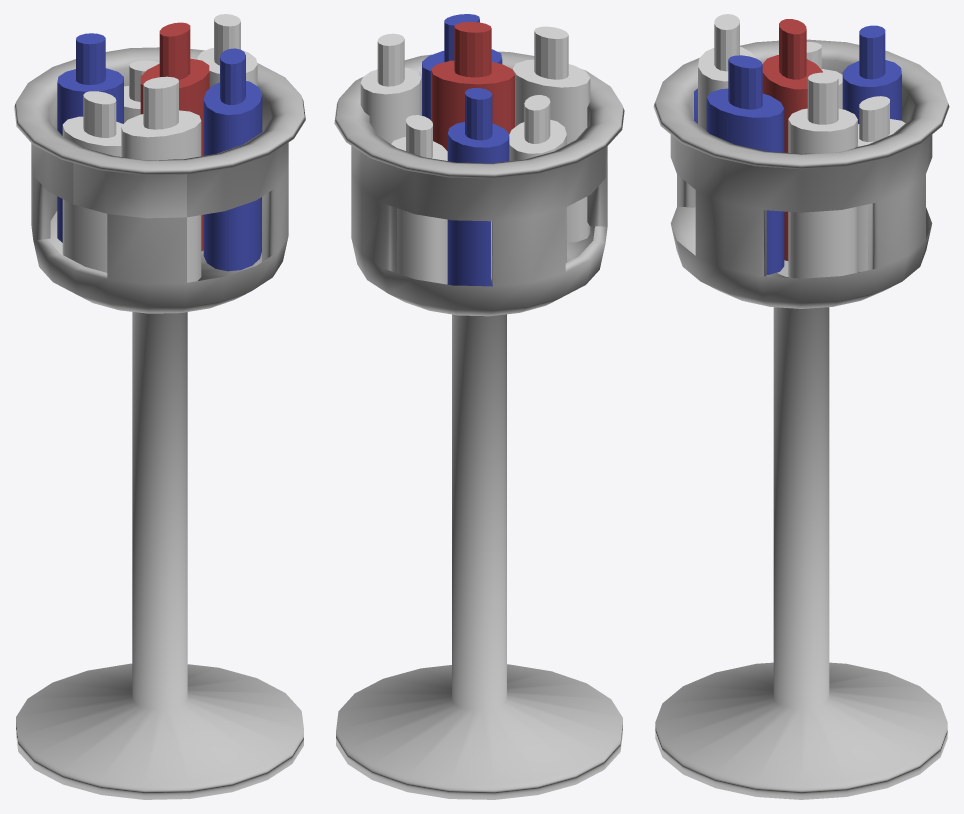
Rendered from headupdisplay.fbx.
3 renders of one model, left to right at view 1: azimuth 30°, elevation 25°; view 2: azimuth 150°, elevation 25°; view 3: azimuth 270°, elevation 25°, orthographic.
Visible parts, largest first — view 1: headupdisplay; view 2: headupdisplay; view 3: headupdisplay.
Boxes of the visible parts, x1,y1,x2,y2 form: headupdisplay: (14, 14, 305, 799); headupdisplay: (334, 14, 624, 799); headupdisplay: (653, 14, 949, 799).
Bounding box in the file's own units: 1.4 × 3.73 × 1.4.
